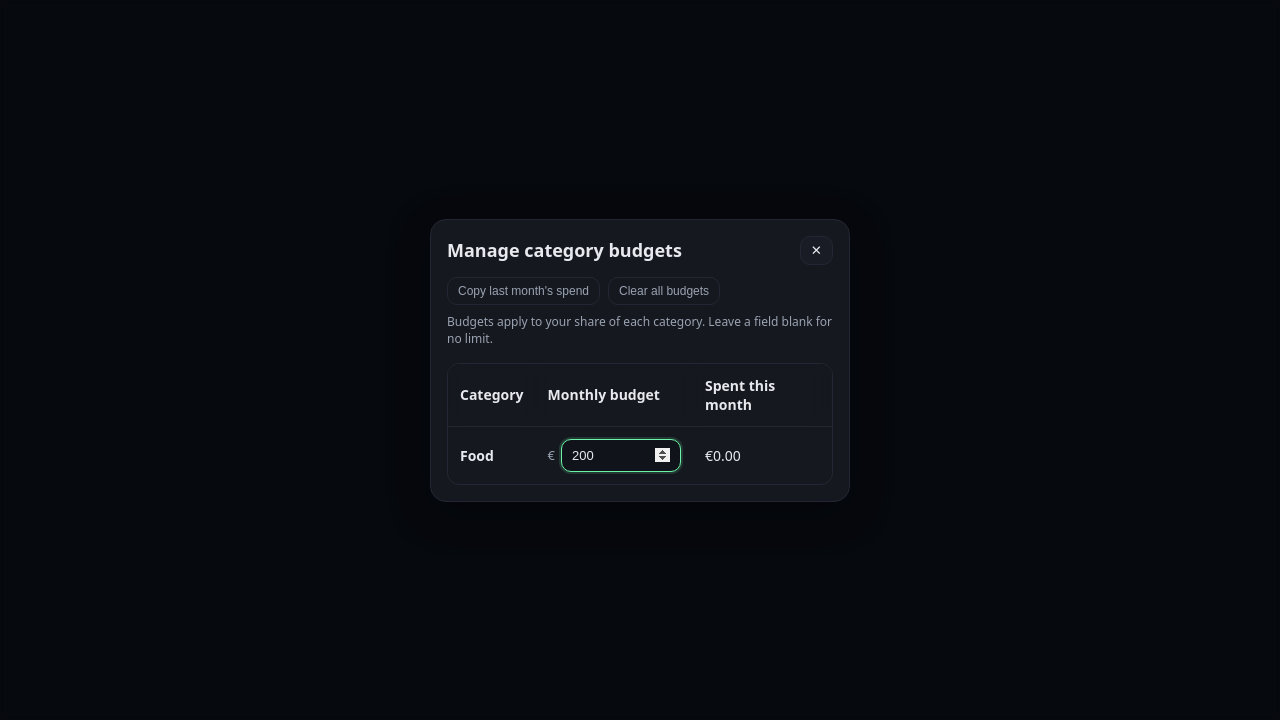
Test case: BudgetManager › handles negative input by reverting
Replace the text in the number field with "-50" at coordinates (621, 455), box left=561, top=438, right=681, bottom=472
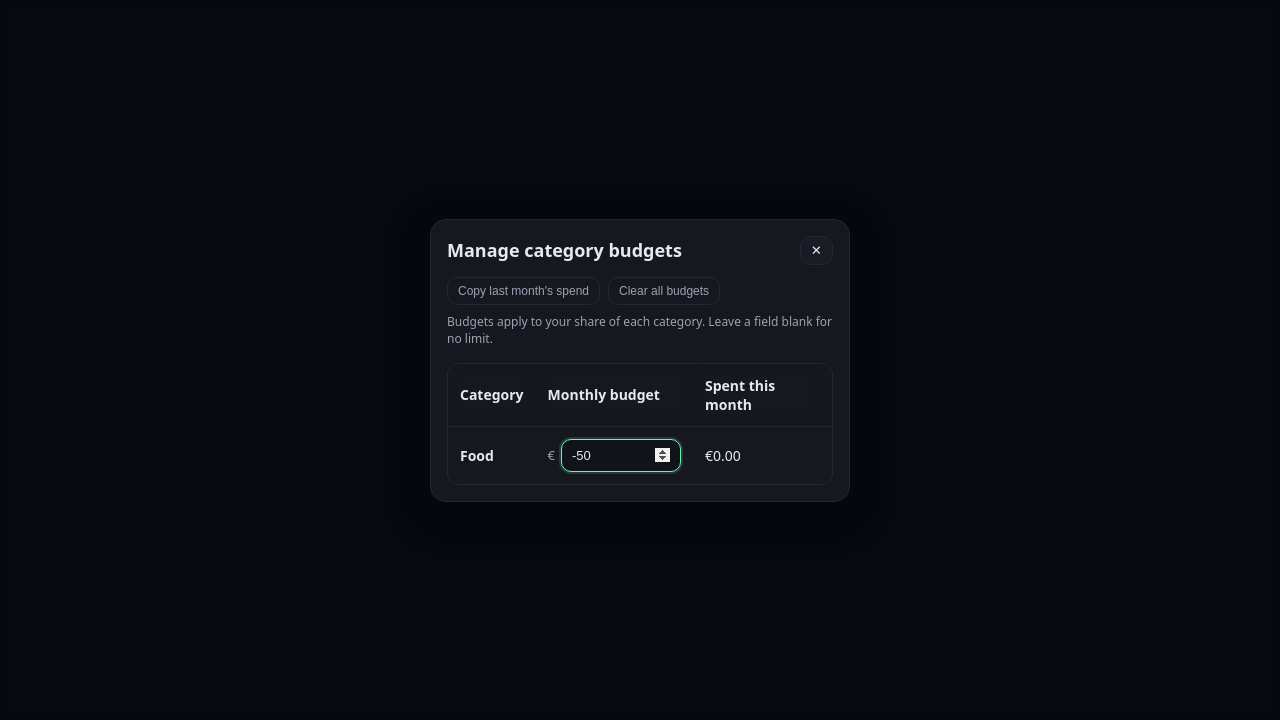
Press Tab
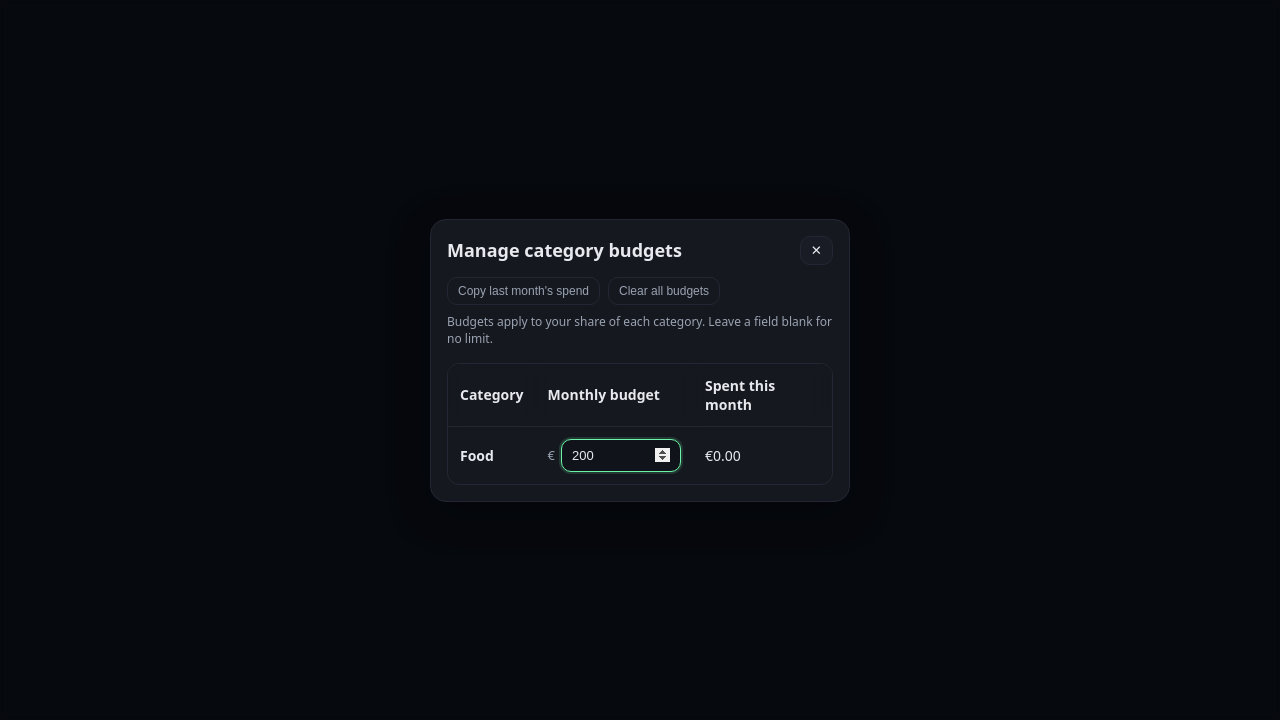
Result: the number field holds "200" at left=561, top=438, right=681, bottom=472
